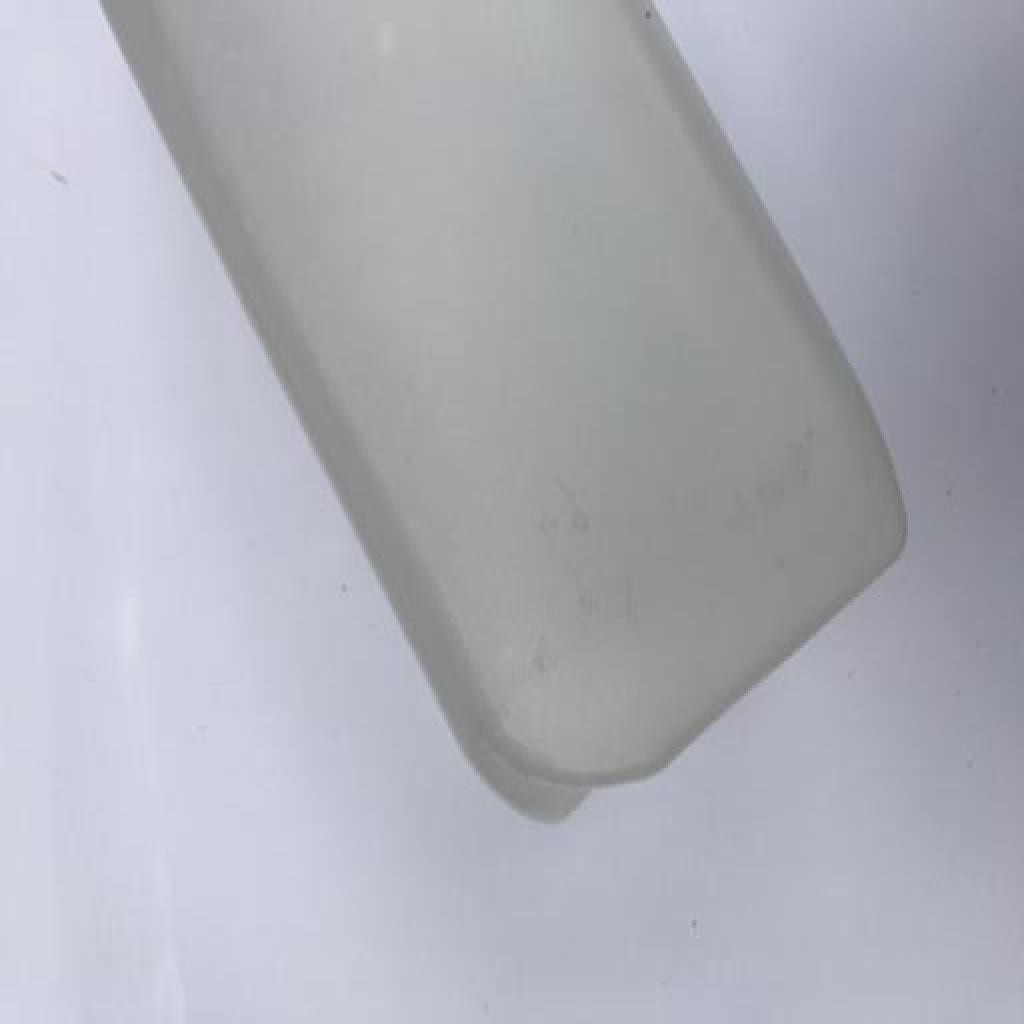plastic: (87, 4, 935, 843)
